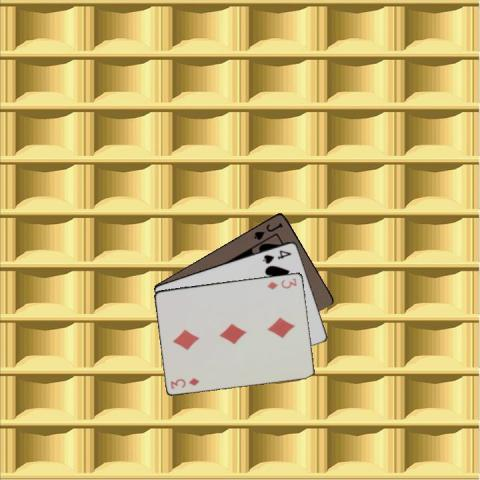3d: (265, 274, 298, 290), (168, 375, 201, 390)
4s: (260, 247, 294, 265)
Js: (250, 220, 284, 242)
